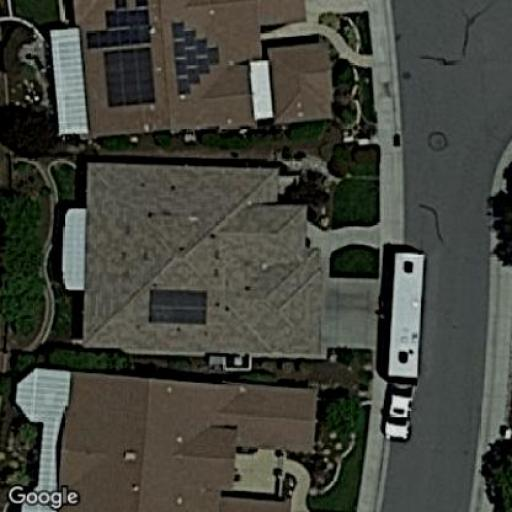solar-panel: (85, 0, 155, 110), (173, 20, 221, 97), (147, 286, 210, 328)
